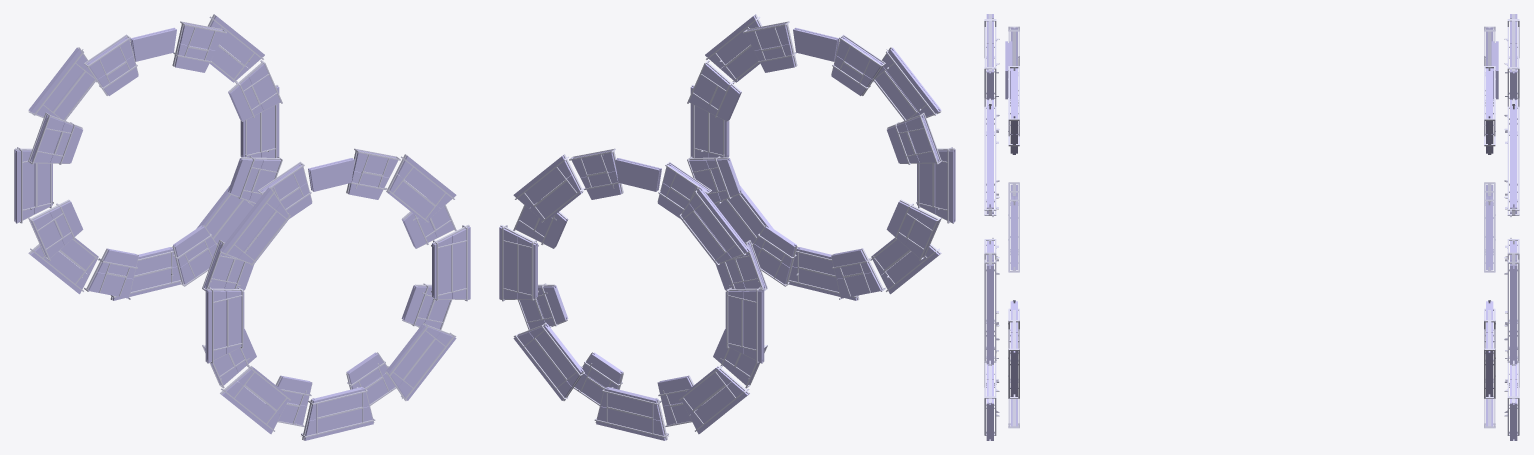
File: Extra-Wheel.gltf
The picture shows the model from 3 angles, left to right: view 1: azimuth 30°, elevation 25°; view 2: azimuth 150°, elevation 25°; view 3: azimuth 270°, elevation 25°; orthographic projection. The views are drawn at different scales.
Visible parts, largest first — view 1: _04323B68, _0488DE08; view 2: _04323B68, _0488DE08; view 3: _04323B68, _0488DE08.
Part boxes in pixels (bbox=[...]): _04323B68: bbox=[14, 14, 470, 440]; _0488DE08: bbox=[15, 14, 469, 440]; _04323B68: bbox=[499, 14, 955, 440]; _0488DE08: bbox=[500, 14, 954, 440]; _04323B68: bbox=[986, 14, 1517, 440]; _0488DE08: bbox=[984, 14, 1519, 440].
Bounding box in the file's own units: 17.93 × 17.54 × 23.15.
